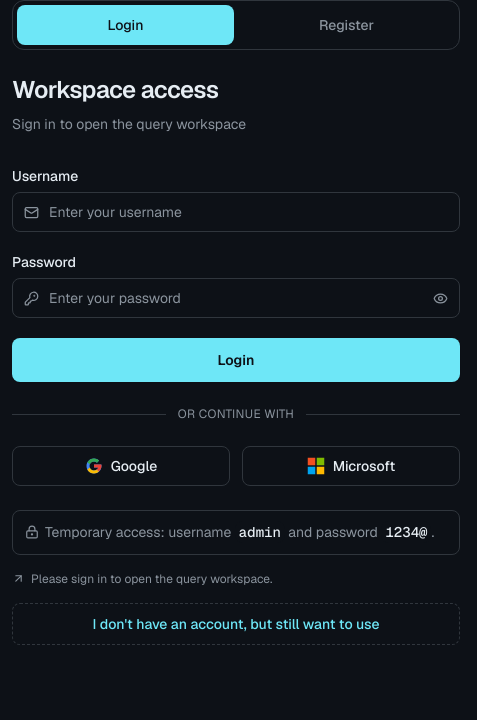
it: SignInPanel interaction states (T029) › shows an alert when the OAuth popup is blocked
This screenshot has width=477, height=720.
Click the button "Google": (121, 466) [12,446,230,486]
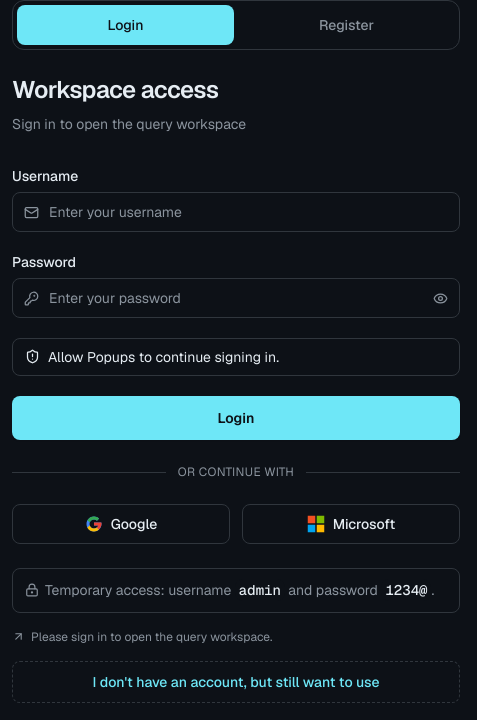
expect the message reads "Allow Popups to continue signing in.": met, box [48,348,279,366]
